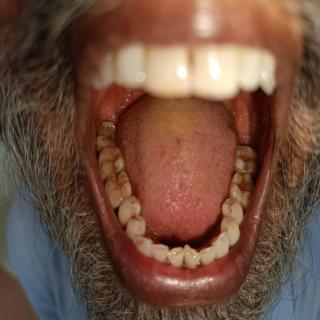LL1BC_healthy: (220, 216, 240, 247)
LL1M_sdecay: (230, 173, 255, 208)
LL2BC_sdecay: (222, 197, 243, 222)
LL2M_sdecay: (235, 146, 258, 172)
LLCI_healthy: (184, 244, 200, 269)
LLC_healthy: (210, 231, 230, 258)
LLLI_healthy: (201, 246, 216, 264)
LR1BC_sdecay: (126, 215, 146, 238)
LR1M_mdecay: (104, 171, 133, 209)
LR2BC_healthy: (118, 195, 140, 225)
LR2M_mdecay: (98, 145, 125, 178)
LR3M_sdecay: (96, 121, 116, 150)
LRCI_healthy: (168, 246, 184, 267)
LRC_mdecay: (132, 235, 152, 256)
LRLI_healthy: (151, 244, 168, 262)
ULCI_healthy: (193, 43, 241, 100)
ULC_healthy: (260, 49, 276, 94)
ULLI_healthy: (241, 48, 261, 91)
URCI_healthy: (144, 44, 192, 99)
URLI_healthy: (115, 45, 145, 88)
